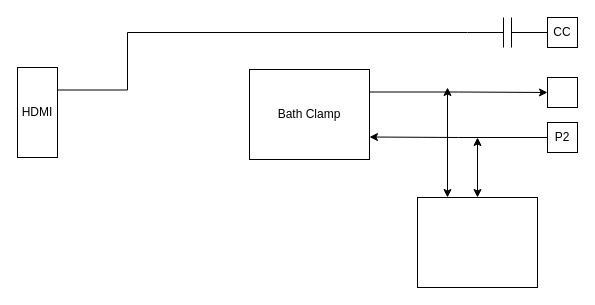
Image size: 595x305. Some labels were removed from this diagram. The shapes that lost their labels are listed below. From the top down, each one's centre as x and y in pixels, then its label:
the point at 562,92: P1
the point at 477,242: Calibration Switching
